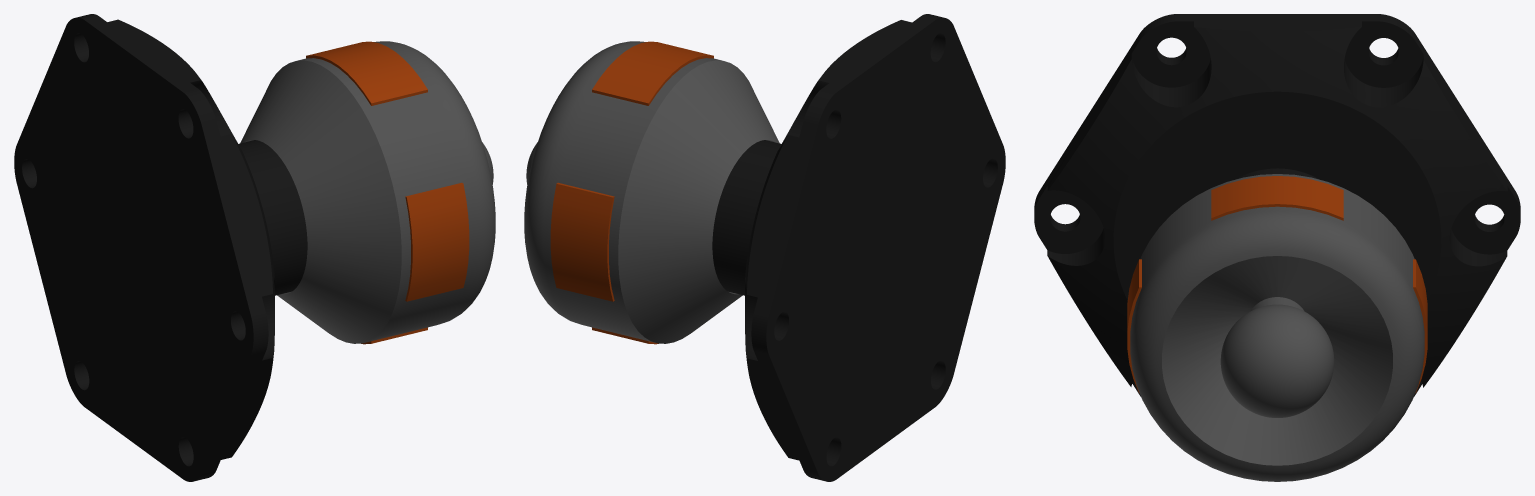
3 views of the same model, side by side, from view 1: azimuth 30°, elevation 25°; view 2: azimuth 150°, elevation 25°; view 3: azimuth 270°, elevation 25° (orthographic).
Visible parts, largest first — view 1: BASE; view 2: BASE; view 3: BASE.
Part boxes in pixels (x1=…): BASE: x1=14, y1=14, x2=495, y2=481; BASE: x1=524, y1=14, x2=1005, y2=481; BASE: x1=1034, y1=14, x2=1520, y2=481.
Size of the model in its own units: 0.1189 by 0.1249 by 0.14.
